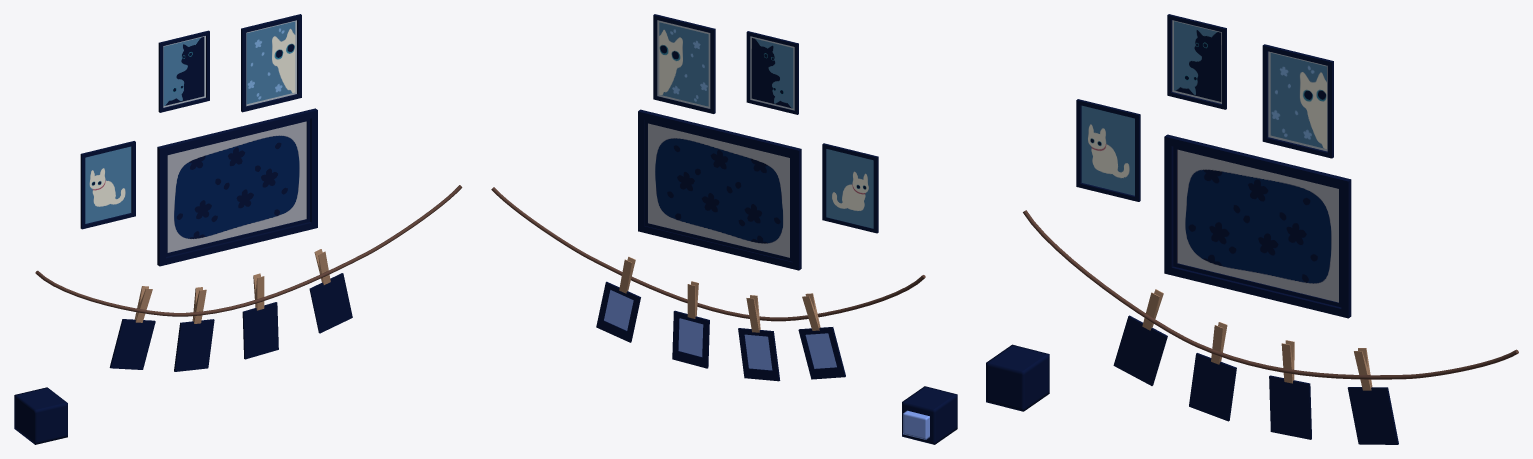
Rendered from 06_LSI.fbx.
3 views of the same model, side by side, from view 1: azimuth 30°, elevation 25°; view 2: azimuth 150°, elevation 25°; view 3: azimuth 330°, elevation 25° (orthographic). The views are drawn at different scales.
Visible parts, largest first — view 1: Pictureframe.001, Plane.544, Pictureframe.005, Pictureframe.002, Pictureframe.004, Button.001, PolaroidString.001, Polaroid.008, Polaroid.010, Polaroid.006, Polaroid.002, Plane.543 (+3 smaller); view 2: Pictureframe.001, Plane.544, Pictureframe.005, Pictureframe.002, Pictureframe.004, Button.001, PolaroidString.001, Polaroid.002, Polaroid.008, Polaroid.006, Plane.543, Polaroid.010 (+4 smaller); view 3: Pictureframe.001, Plane.544, Pictureframe.005, Pictureframe.002, Pictureframe.004, Button.001, PolaroidString.001, Polaroid.010, Polaroid.006, Polaroid.008, Polaroid.002, Plane.543 (+3 smaller).
Part boxes in pixels (x1,y1,x2,y2): Pictureframe.001: (167, 121, 306, 252); Plane.544: (157, 108, 317, 266); Pictureframe.005: (246, 20, 296, 106); Pictureframe.002: (85, 146, 131, 223); Pictureframe.004: (163, 36, 205, 107); Button.001: (14, 387, 67, 444); PolaroidString.001: (35, 185, 462, 316); Polaroid.008: (174, 319, 214, 371); Polaroid.010: (309, 273, 352, 333); Polaroid.006: (242, 302, 278, 359); Polaroid.002: (109, 319, 155, 369); Plane.543: (166, 119, 310, 256); Pictureframe.001: (648, 123, 789, 257); Plane.544: (638, 109, 801, 270); Pictureframe.005: (657, 20, 710, 108); Pictureframe.002: (826, 149, 873, 228); Pictureframe.004: (750, 36, 794, 110); Button.001: (902, 386, 957, 444); PolaroidString.001: (491, 187, 925, 321); Polaroid.002: (798, 327, 845, 379); Polaroid.008: (738, 328, 780, 381); Polaroid.006: (672, 310, 709, 368); Plane.543: (644, 120, 792, 261); Polaroid.010: (596, 281, 640, 342); Pictureframe.001: (1177, 149, 1338, 302); Plane.544: (1164, 134, 1351, 318); Pictureframe.005: (1268, 51, 1327, 151); Pictureframe.002: (1081, 105, 1134, 195); Pictureframe.004: (1172, 20, 1221, 103); Button.001: (986, 344, 1049, 411); PolaroidString.001: (1023, 210, 1518, 379); Polaroid.010: (1347, 387, 1398, 444); Polaroid.006: (1269, 375, 1311, 439); Polaroid.008: (1189, 353, 1236, 421); Polaroid.002: (1113, 315, 1167, 385); Plane.543: (1173, 146, 1341, 307).
Size of the model in its own units: 133 by 102 by 13.26.
